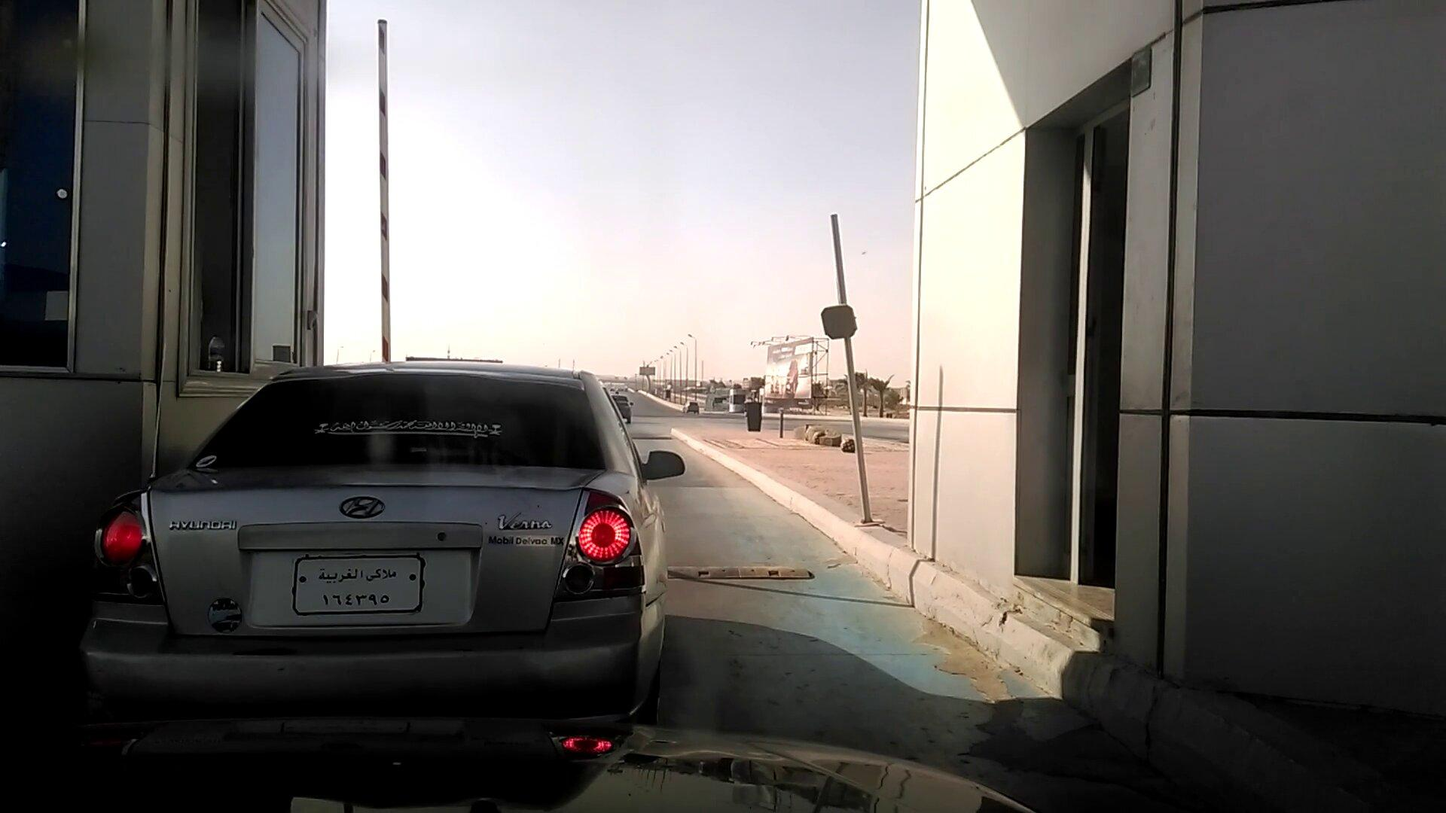Bump: (663, 557, 819, 593)
